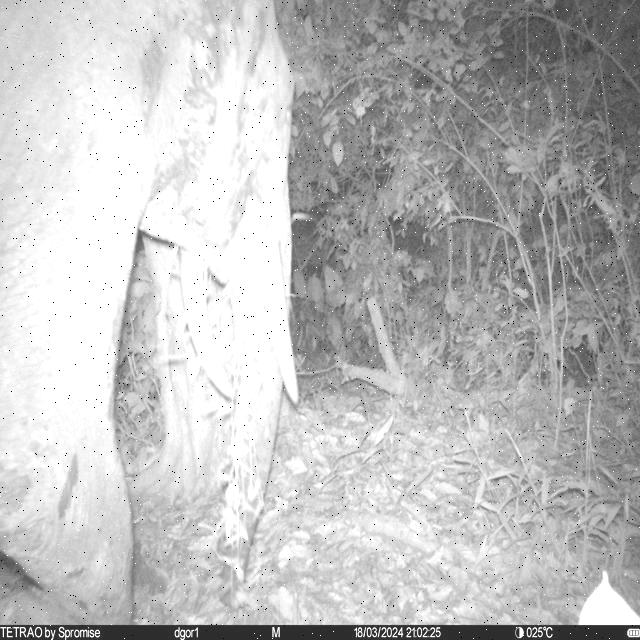elephant: (0, 0, 301, 623)
tusk: (180, 252, 239, 402), (259, 237, 300, 408)
